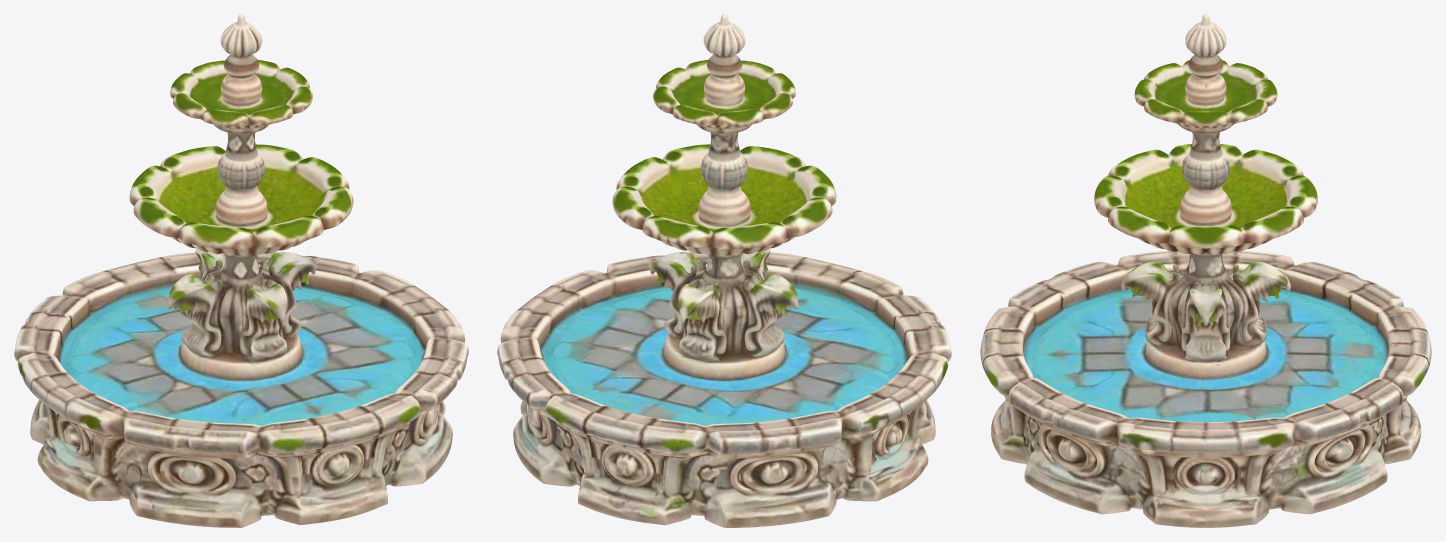
The model's file is fountain.glb.
The picture shows the model from 3 angles, left to right: view 1: azimuth 30°, elevation 25°; view 2: azimuth 150°, elevation 25°; view 3: azimuth 270°, elevation 25°; orthographic projection.
Parts seen in each view (by area): view 1: Mesh_0; view 2: Mesh_0; view 3: Mesh_0.
Part boxes in pixels (bbox=[...]): Mesh_0: bbox=[14, 14, 468, 527]; Mesh_0: bbox=[497, 14, 951, 527]; Mesh_0: bbox=[980, 14, 1431, 527].
Size of the model in its own units: 2.89 by 3 by 2.89.
1 material, 1 textured.
